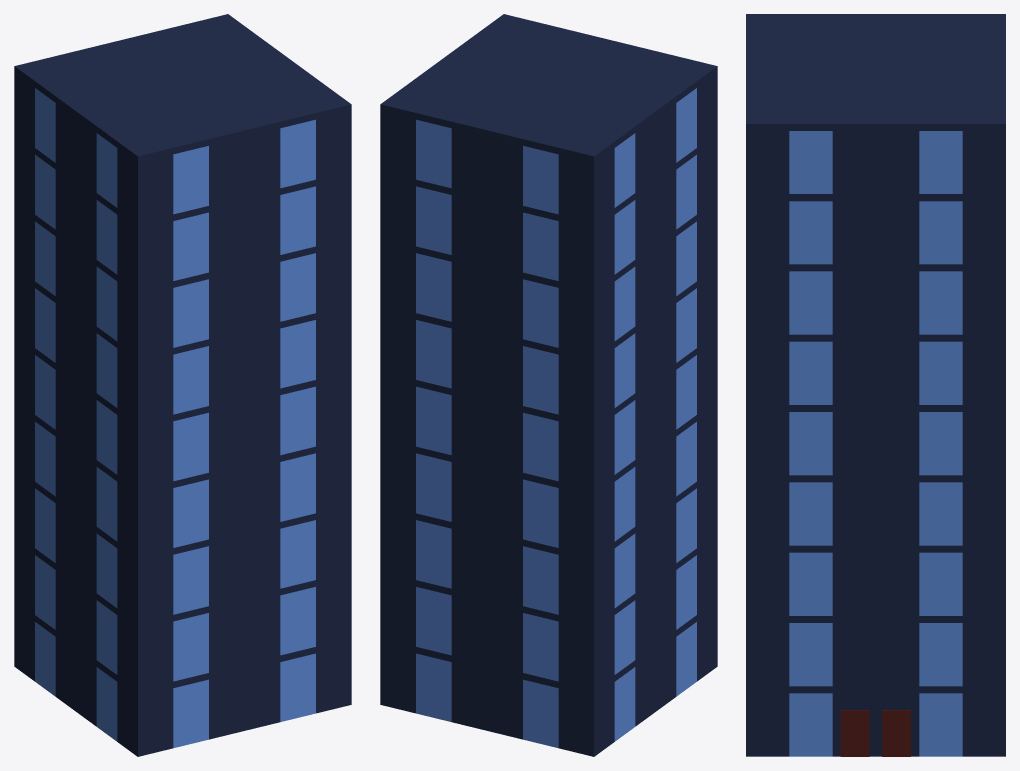
File: SimpleSkyscraperModel.fbx
3 renders of one model, left to right at view 1: azimuth 30°, elevation 25°; view 2: azimuth 150°, elevation 25°; view 3: azimuth 270°, elevation 25°, orthographic. The views are drawn at different scales.
Visible parts, largest first — view 1: Cube.004; view 2: Cube.004; view 3: Cube.004.
Part boxes in pixels (<box>): Cube.004: <box>14,14,351,756</box>; Cube.004: <box>380,14,717,756</box>; Cube.004: <box>746,14,1005,756</box>.
Bounding box in the file's own units: 414 × 1107 × 412.
